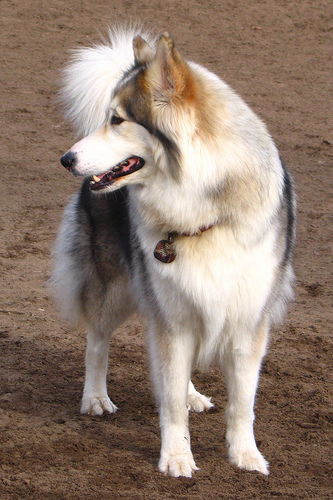dog: (52, 20, 299, 480)
